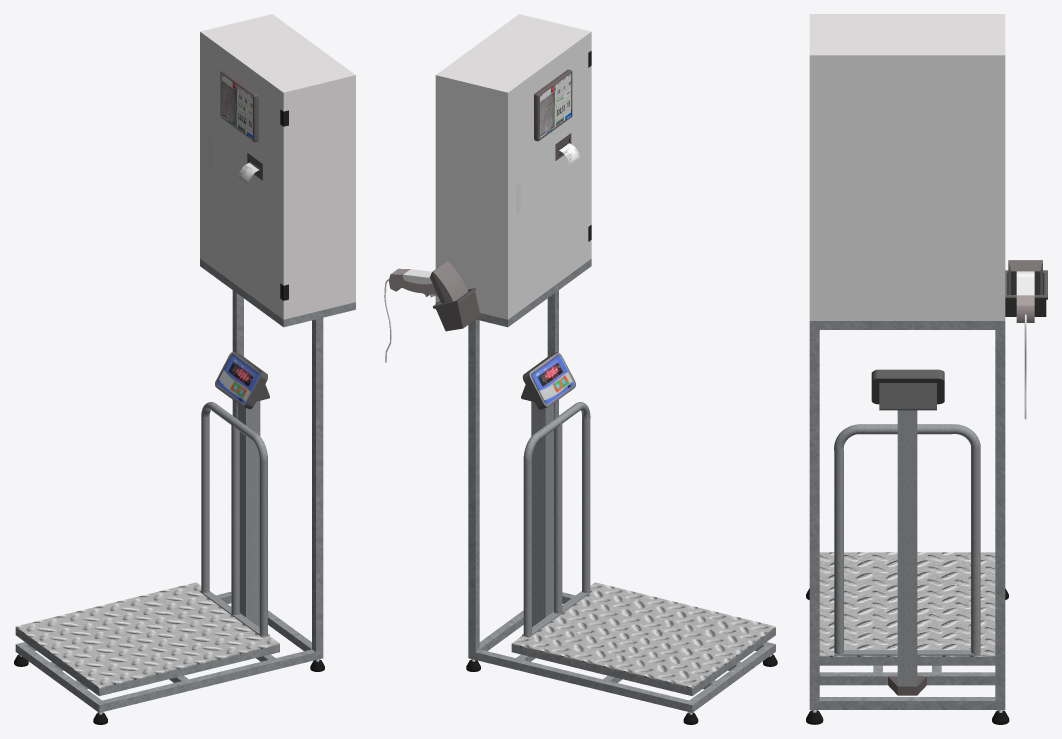
The model's file is weigher_barcode_scanner.glb.
3 renders of one model, left to right at view 1: azimuth 30°, elevation 25°; view 2: azimuth 150°, elevation 25°; view 3: azimuth 270°, elevation 25°, orthographic. The views are drawn at different scales.
Visible parts, largest first — view 1: Object_24, Object_9, Object_22, Object_23, Object_7, Object_10, Object_11, Object_19; view 2: Object_24, Object_9, Object_22, Object_23, Object_7, Object_10, Object_11, Object_14, Object_20, Object_19, Object_2; view 3: Object_24, Object_22, Object_9, Object_23, Object_7, Object_5, Object_20, Object_14, Object_2, Object_18, Object_19, Object_3.
Part boxes in pixels (x1,y1,x2,y2): Object_24: (200, 14, 355, 319); Object_9: (15, 582, 279, 688); Object_22: (15, 259, 355, 712); Object_23: (199, 402, 269, 637); Object_7: (237, 401, 260, 626); Object_10: (215, 351, 261, 406); Object_11: (221, 74, 252, 139); Object_19: (220, 70, 262, 179); Object_24: (435, 14, 591, 319); Object_9: (511, 582, 775, 688); Object_22: (435, 259, 775, 712); Object_23: (522, 402, 591, 637); Object_7: (531, 401, 553, 626); Object_10: (529, 352, 575, 406); Object_11: (540, 73, 571, 138); Object_14: (432, 288, 480, 331); Object_20: (430, 260, 468, 303); Object_19: (534, 69, 572, 160); Object_2: (389, 268, 438, 296); Object_24: (809, 14, 1005, 320); Object_22: (809, 321, 1005, 709); Object_9: (819, 552, 995, 656); Object_23: (834, 424, 980, 655); Object_7: (897, 410, 917, 686); Object_5: (871, 369, 944, 410); Object_20: (1008, 260, 1042, 294); Object_14: (1005, 270, 1047, 316); Object_2: (1016, 295, 1034, 322); Object_18: (806, 588, 1009, 724); Object_19: (888, 676, 926, 695); Object_3: (1016, 271, 1034, 295).
Bounding box in the file's own units: 0.9277 × 1.72 × 0.5498.
Materials: 26 (8 with a texture image).
